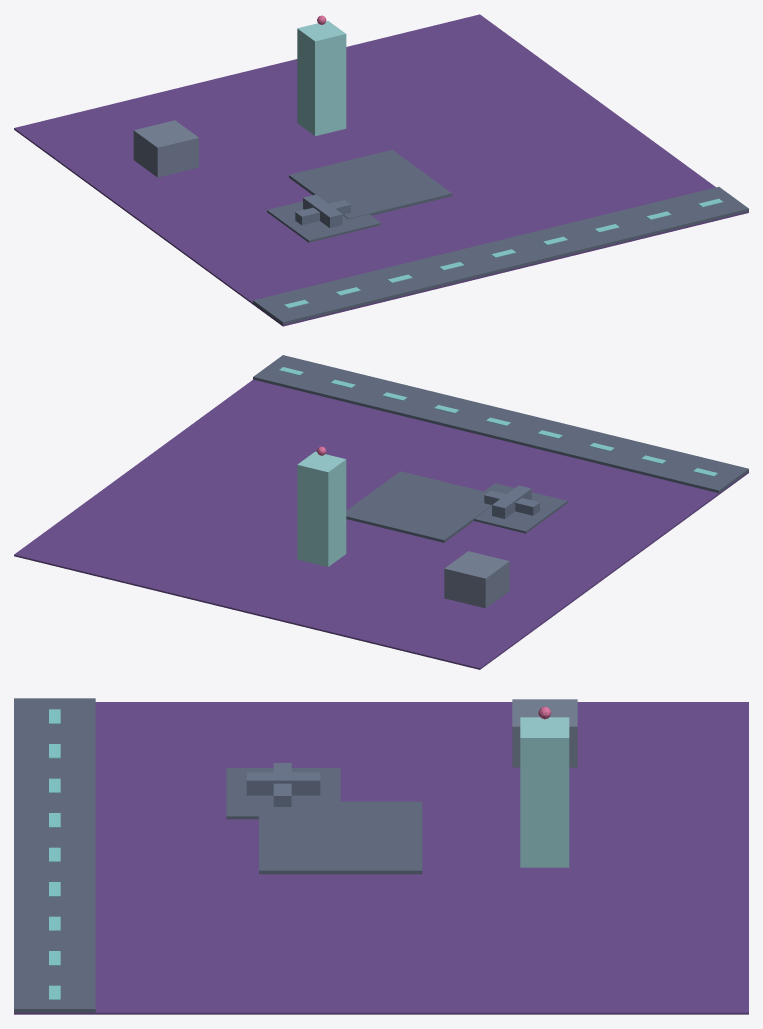
The model's file is stage_04.glb.
The picture shows the model from 3 angles, top to bottom: view 1: azimuth 30°, elevation 25°; view 2: azimuth 150°, elevation 25°; view 3: azimuth 270°, elevation 25°; orthographic projection. The views are drawn at different scales.
Visible parts, largest first — view 1: geometry_0; view 2: geometry_0; view 3: geometry_0.
Part boxes in pixels (box(x1,y1,x2,y2)): geometry_0: box(14, 14, 748, 326); geometry_0: box(14, 355, 748, 669); geometry_0: box(14, 698, 748, 1014).
Size of the model in its own units: 9 by 2.06 by 9.
